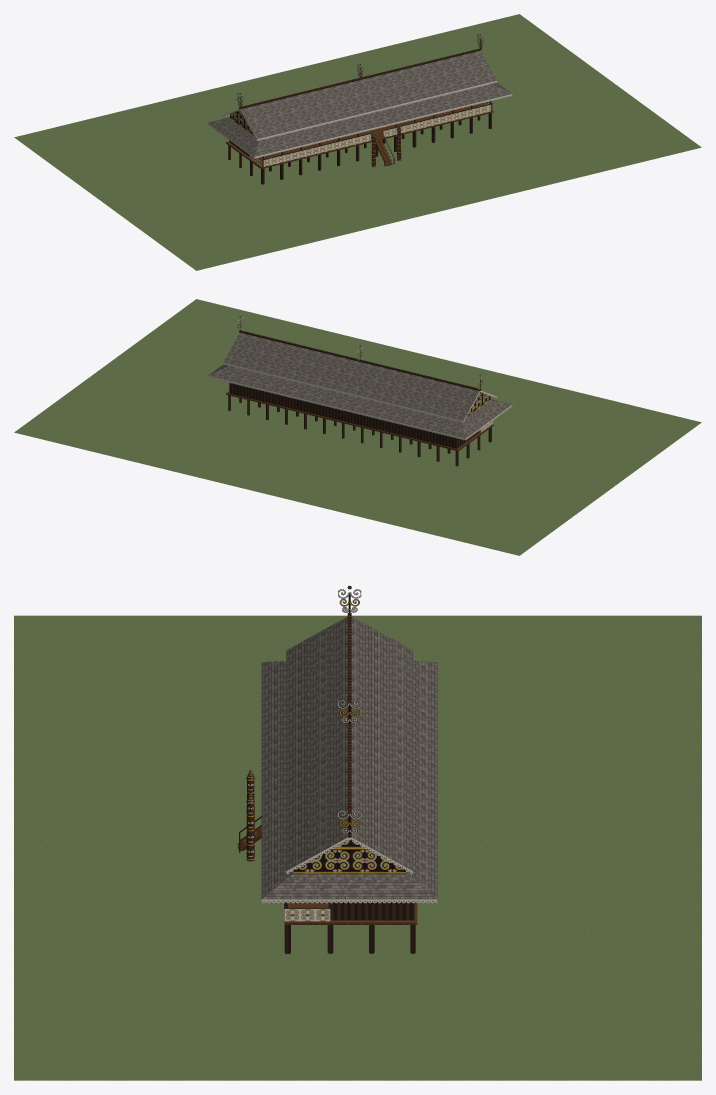
Rendered from rumah_lamin.glb.
3 renders of one model, top to bottom at view 1: azimuth 30°, elevation 25°; view 2: azimuth 150°, elevation 25°; view 3: azimuth 270°, elevation 25°, orthographic. The views are drawn at different scales.
Visible parts, largest first — view 1: Tanah, Atap_Atas, Atap_Bawah, Pagar_Beranda, Lisplang_Renda, Lantai, Tiang, Bubungan, Pagar_Rangka; view 2: Tanah, Atap_Atas, Atap_Bawah, Dinding, Lisplang_Renda, Tiang, Lantai, Bubungan; view 3: Tanah, Atap_Atas, Atap_Bawah, Gable_Motif, Dinding, Lisplang_Renda, Ornamen_Bubungan, Bubungan, Lantai.
Part boxes in pixels (bbox=[...]): Tanah: bbox=[14, 14, 701, 270]; Atap_Atas: bbox=[240, 50, 496, 139]; Atap_Bawah: bbox=[208, 82, 511, 156]; Pagar_Beranda: bbox=[249, 101, 492, 167]; Lisplang_Renda: bbox=[208, 81, 512, 158]; Lantai: bbox=[226, 103, 493, 168]; Tiang: bbox=[228, 113, 491, 184]; Bubungan: bbox=[239, 48, 481, 109]; Pagar_Rangka: bbox=[262, 101, 492, 166]; Tanah: bbox=[14, 299, 701, 555]; Atap_Atas: bbox=[223, 332, 479, 420]; Atap_Bawah: bbox=[208, 364, 511, 438]; Dinding: bbox=[229, 383, 479, 448]; Lisplang_Renda: bbox=[208, 362, 512, 440]; Tiang: bbox=[228, 395, 491, 466]; Lantai: bbox=[226, 391, 493, 451]; Bubungan: bbox=[239, 330, 481, 390]; Tanah: bbox=[14, 615, 701, 1080]; Atap_Atas: bbox=[286, 616, 412, 870]; Atap_Bawah: bbox=[261, 661, 437, 899]; Gable_Motif: bbox=[293, 839, 405, 872]; Dinding: bbox=[328, 873, 414, 920]; Lisplang_Renda: bbox=[261, 837, 437, 903]; Ornamen_Bubungan: bbox=[338, 585, 361, 834]; Bubungan: bbox=[347, 613, 351, 837]; Lantai: bbox=[284, 873, 417, 924].
Size of the model in its own units: 80 by 12.48 by 50.
Materials: 10 (10 with a texture image).
